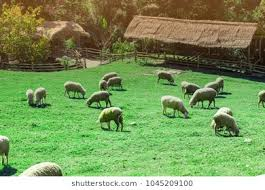sheep: (12, 160, 66, 178), (94, 105, 125, 133), (212, 112, 243, 139), (160, 93, 191, 116), (63, 79, 89, 102), (188, 87, 217, 107), (86, 88, 111, 108), (1, 133, 13, 168), (155, 70, 177, 86), (34, 86, 50, 105), (23, 86, 36, 109), (106, 77, 124, 89), (216, 77, 227, 91), (97, 80, 108, 92)
